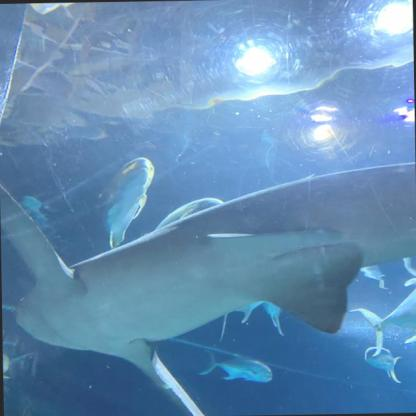fish: (348, 277, 415, 359), (98, 156, 156, 248), (198, 347, 273, 382), (364, 346, 402, 384)
shark: (0, 159, 415, 415)
